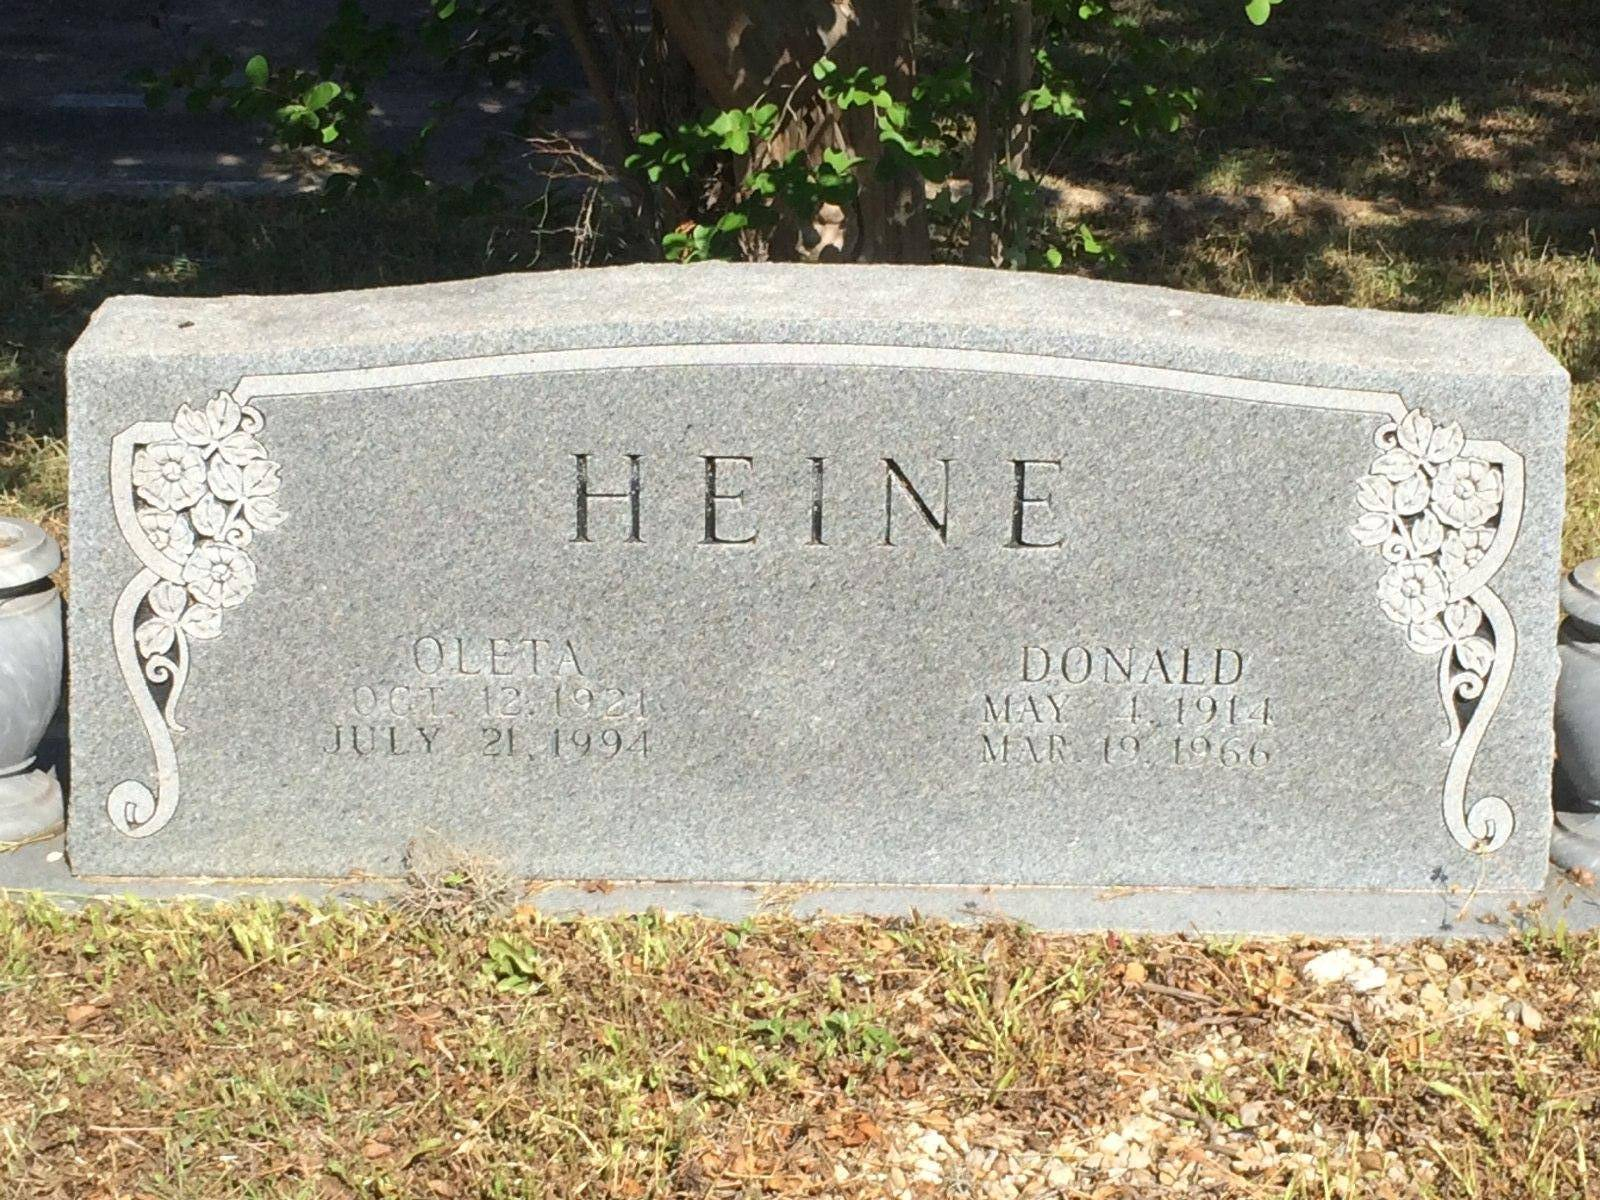upright: (25, 234, 1574, 976)
